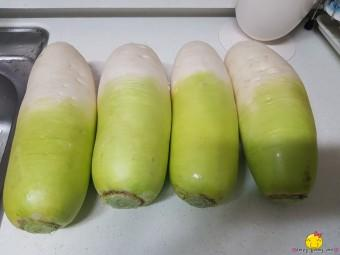radish: (1, 16, 53, 93), (121, 15, 173, 82), (49, 17, 91, 84), (89, 16, 126, 83)
